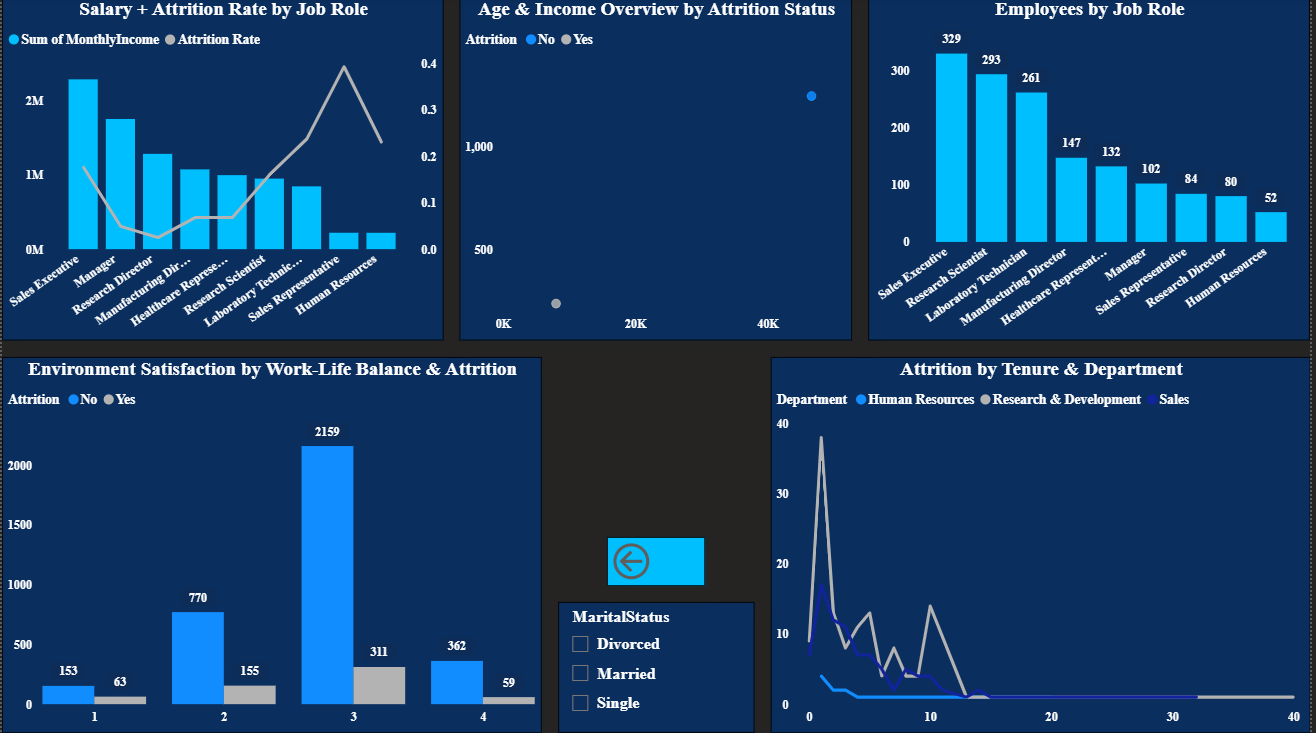

What the dashboard file says about the page in this screenshot:
{"tool":"powerbi","page":{"name":"ATTRITION ANALYSIS","canvas":[1280,720],"ordinal":1},"visuals":[{"type":"lineChart","title":"Attrition by Tenure & Department","fields":{"Category":["HR_Analytics.YearsAtCompany"],"Y":["HR_Analytics.Attrition Count"],"Series":["HR_Analytics.Department"]},"box":[752,352,528,368],"z":0},{"type":"clusteredColumnChart","title":"Environment Satisfaction by Work-Life Balance & Attrition","fields":{"Category":["HR_Analytics.WorkLifeBalance"],"Series":["HR_Analytics.Attrition"],"Y":["Sum(HR_Analytics.EnvironmentSatisfaction)"]},"box":[0,352,528,368],"z":1000},{"type":"scatterChart","title":"Age & Income Overview by Attrition Status","fields":{"X":["Sum(HR_Analytics.Age)"],"Y":["CountNonNull(HR_Analytics.MonthlyIncome)"],"Series":["HR_Analytics.Attrition"]},"box":[448,0,384,336],"z":2000},{"type":"columnChart","title":"Employees by Job Role","fields":{"Category":["HR_Analytics.JobRole"],"Y":["Sum(HR_Analytics.EmployeeCount)"]},"box":[848,0,432,336],"z":3000},{"type":"lineStackedColumnComboChart","title":"Salary + Attrition Rate by Job Role","fields":{"Category":["HR_Analytics.JobRole"],"Y":["Sum(HR_Analytics.MonthlyIncome)"],"Y2":["HR_Analytics.Attrition Rate"]},"box":[0,0,432,336],"z":4000},{"type":"slicer","fields":{"Values":["HR_Analytics.MaritalStatus"]},"box":[544,592,192,128],"z":4001},{"type":"actionButton","box":[592,528,96,48],"z":4002}]}

Visuals, with their boxes in screenshot pixels (x1, y1, x2, y2), scaled from the page's 1280x720 canvas onto the 1316x733 screenshot:
"Attrition by Tenure & Department" lineChart: {"left": 773, "top": 358, "right": 1315, "bottom": 732}
"Environment Satisfaction by Work-Life Balance & Attrition" clusteredColumnChart: {"left": 0, "top": 358, "right": 543, "bottom": 732}
"Age & Income Overview by Attrition Status" scatterChart: {"left": 461, "top": 0, "right": 855, "bottom": 342}
"Employees by Job Role" columnChart: {"left": 872, "top": 0, "right": 1315, "bottom": 342}
"Salary + Attrition Rate by Job Role" lineStackedColumnComboChart: {"left": 0, "top": 0, "right": 444, "bottom": 342}
slicer - HR_Analytics.MaritalStatus: {"left": 559, "top": 603, "right": 757, "bottom": 732}
actionButton: {"left": 609, "top": 538, "right": 707, "bottom": 586}
